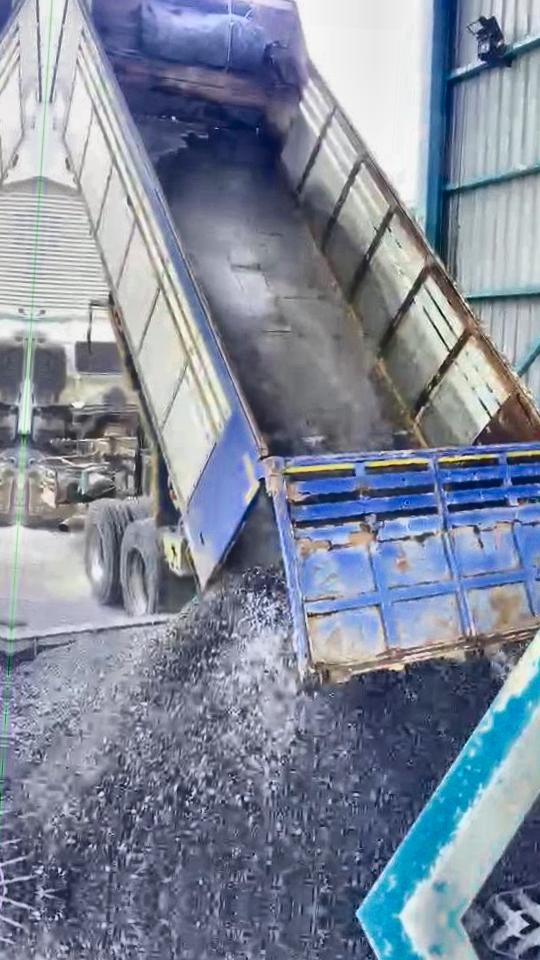gravel: (5, 570, 498, 912), (486, 780, 540, 895)
